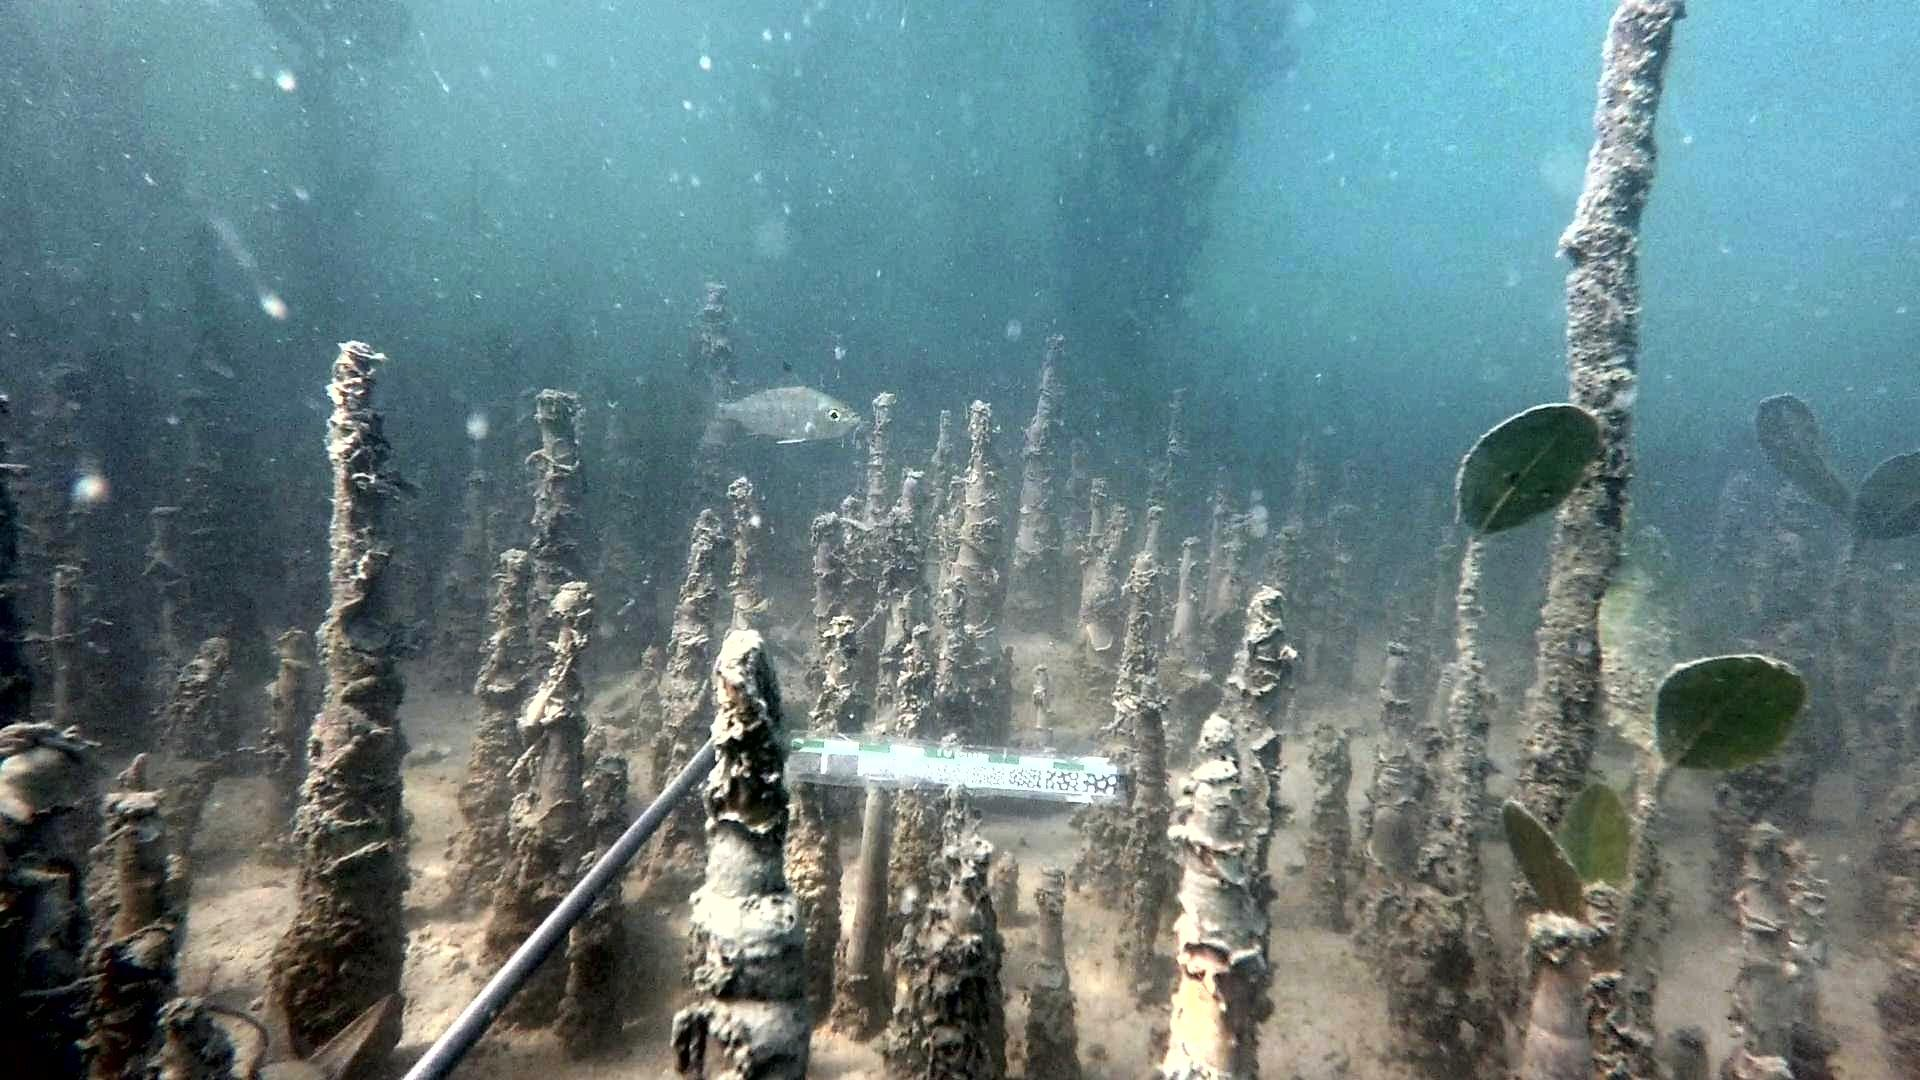gerres: (682, 359, 865, 447)
